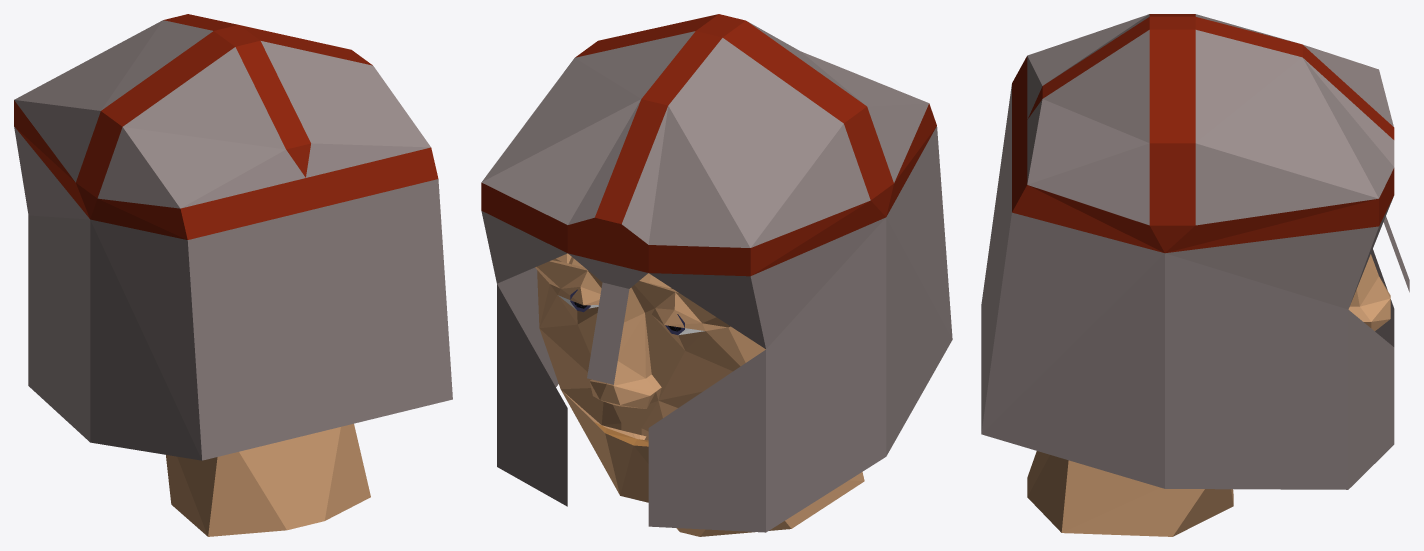
The model's file is npc_chat_tower_guard_0.obj.
The picture shows the model from 3 angles, left to right: view 1: azimuth 30°, elevation 25°; view 2: azimuth 150°, elevation 25°; view 3: azimuth 270°, elevation 25°; orthographic projection. The views are drawn at different scales.
Size of the model in its own units: 0.75 by 1.08 by 0.875.
